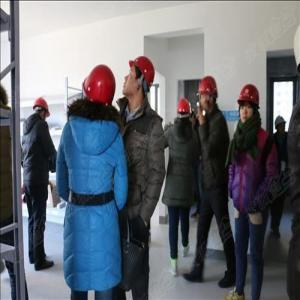red: (82, 64, 117, 112), (123, 57, 155, 104), (238, 83, 261, 124), (197, 76, 218, 114), (176, 97, 193, 126), (34, 97, 51, 122)
white: (276, 115, 288, 136)
